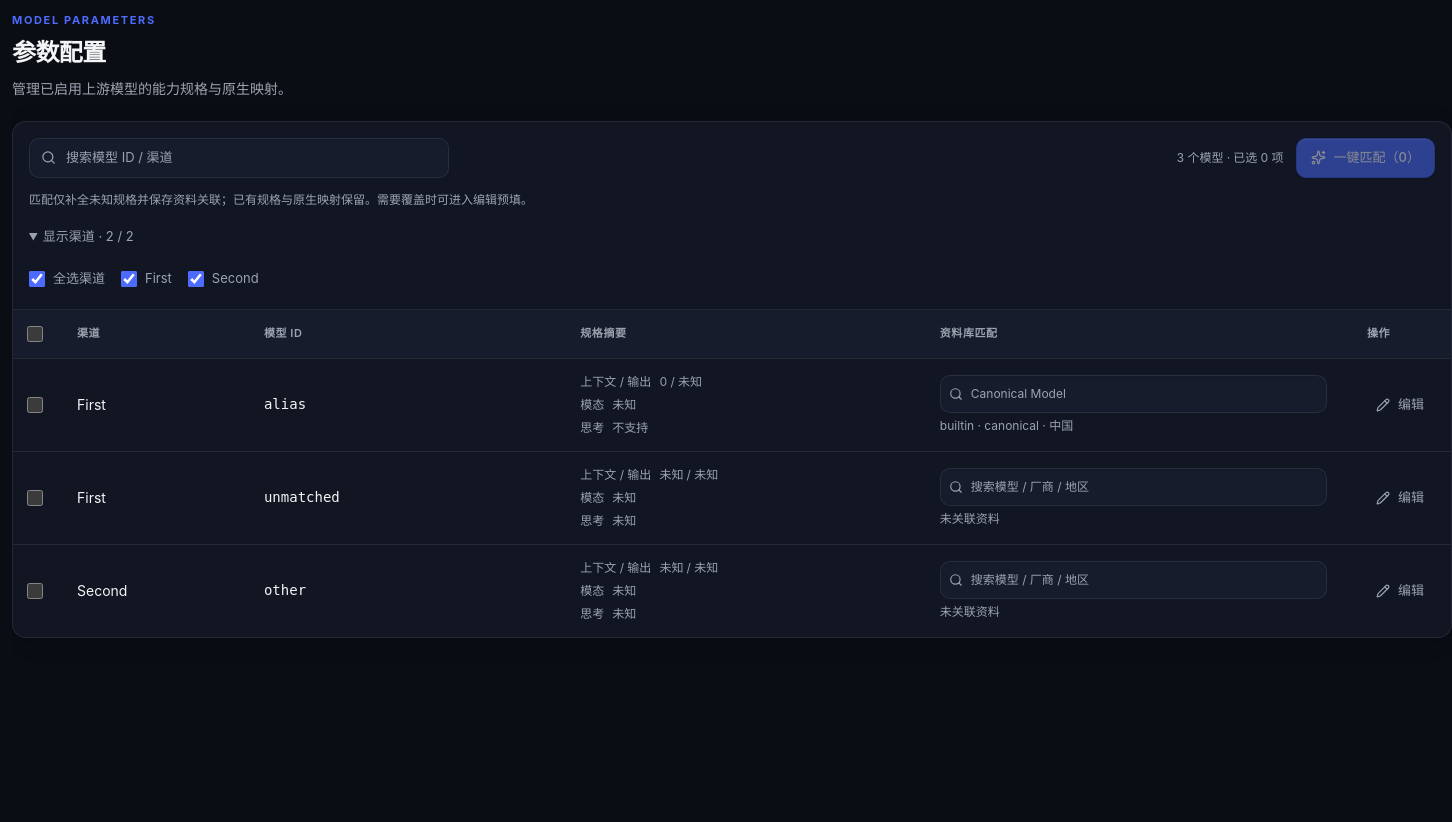
Test case: previews only checked visible rows and applies only identities verified by the server
Expected: the dropdown named "搜索规格资料 1:alias" is shown, [940,375,1327,413]
Click the checkbox named "全选可见模型" at (35, 334), box [27,326,43,342]
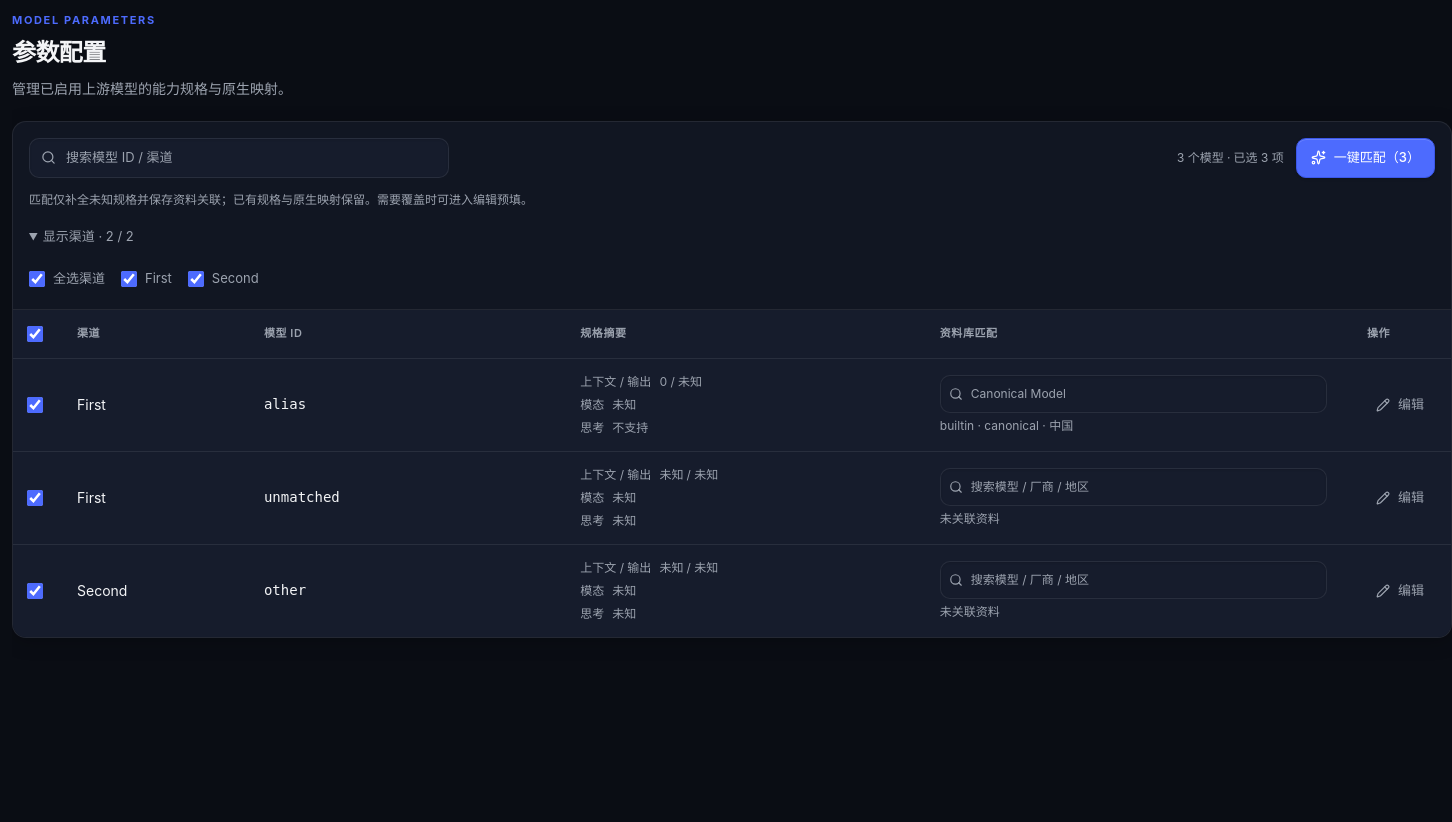
Click the checkbox named "显示渠道 Second" at (196, 279), box [188,271,204,287]
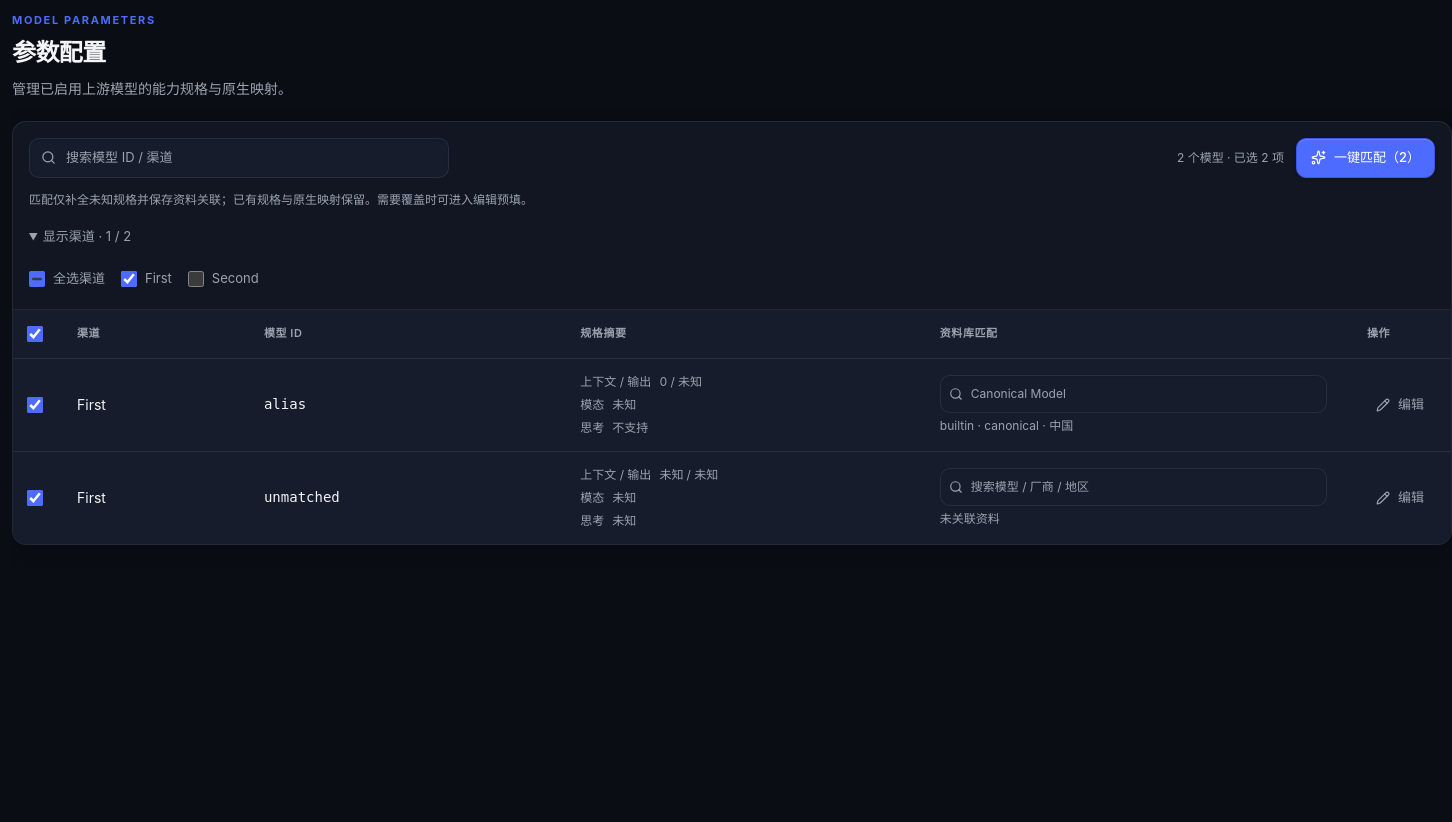
Click the button "一键匹配（2）" at (1366, 158), box [1296,138,1435,178]
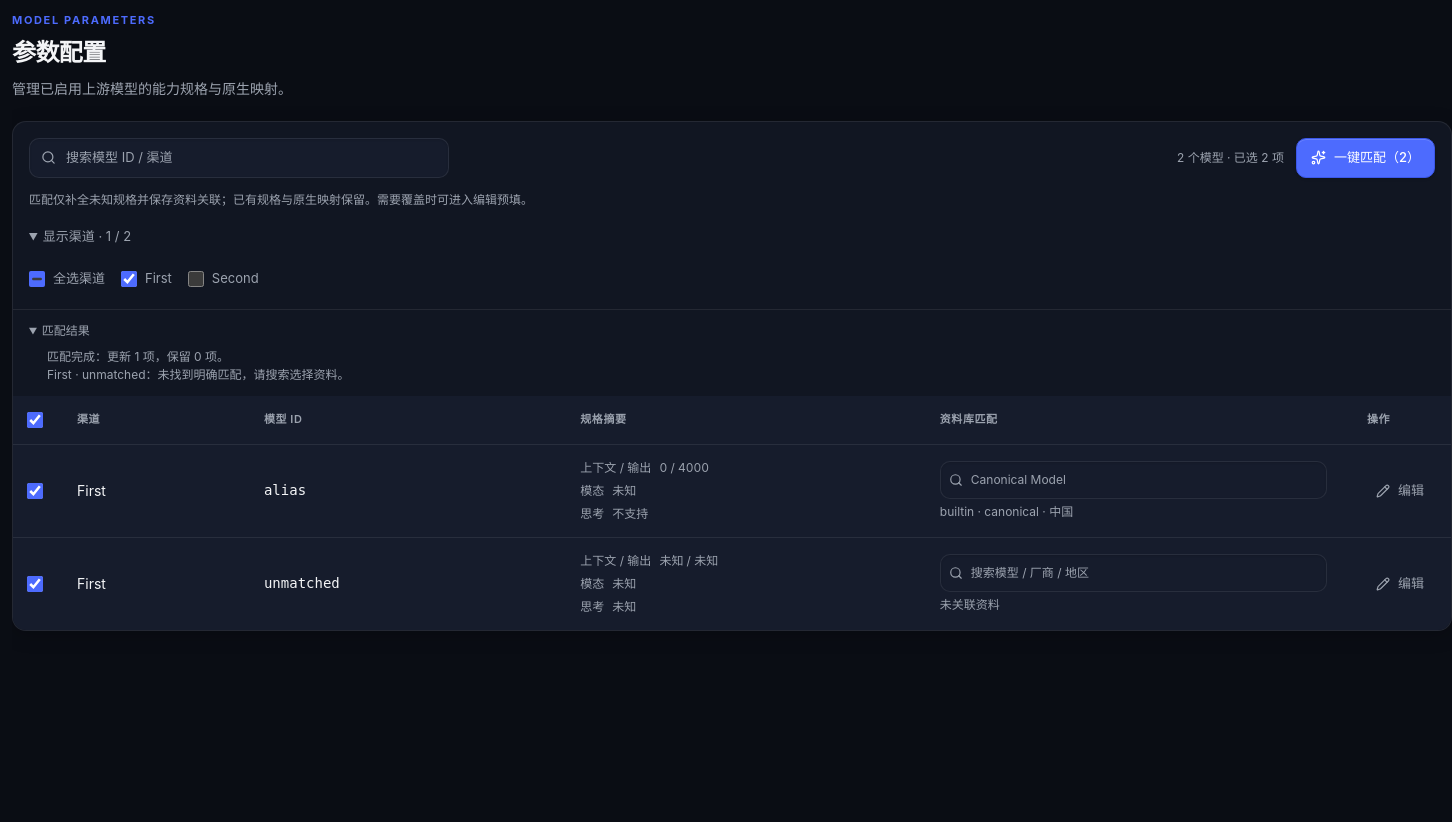
Expected: the list item "First · unmatched：未找到明确匹配，请搜索选择资料。" is shown, [47,367,350,382]
